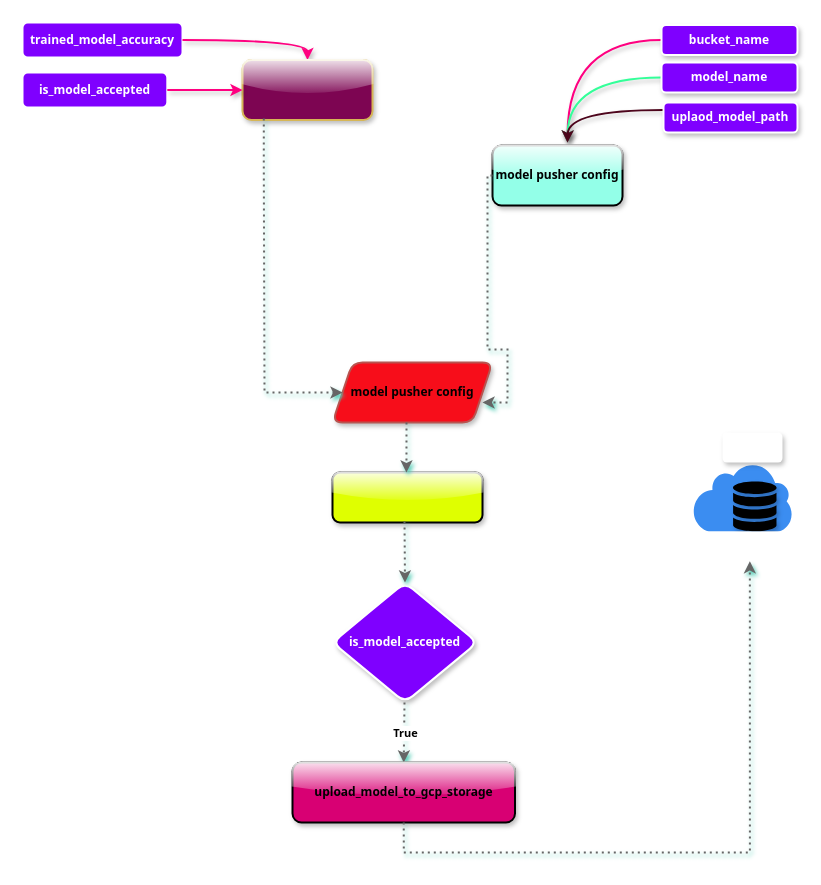
The diagram is 821 pixels wide and 885 high, and some of its shapes have lost their labels. The centre of each missing label's shape, as x and y in pixels:
google cloud storage: point (742, 546)
initiate model pusher: point (408, 498)
model evaluation artifacts: point (308, 91)
model.pt: point (753, 448)
